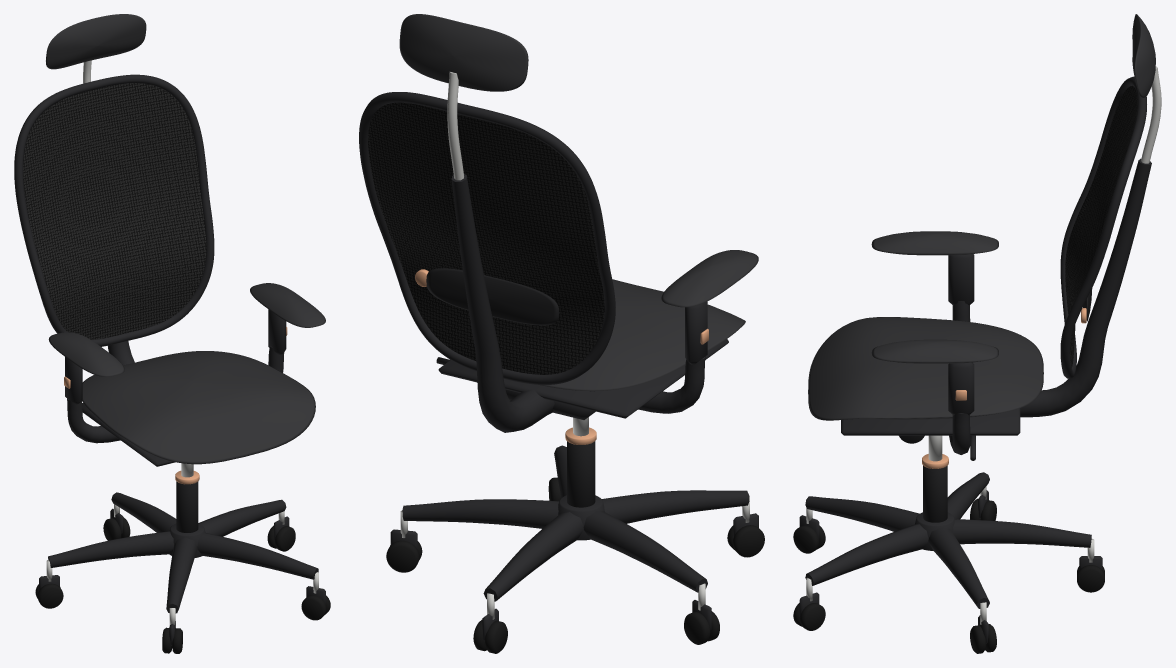
Rendered from concept-chair.glb.
3 renders of one model, left to right at view 1: azimuth 30°, elevation 25°; view 2: azimuth 150°, elevation 25°; view 3: azimuth 270°, elevation 25°, orthographic. The views are drawn at different scales.
Visible parts, largest first — view 1: backpanel, seat, frame, headrest, blade.001, blade.003, armpad, armpad.001, blade.004, blade.002, blade, sleeve (+6 smaller); view 2: backpanel, seat, frame, headrest, spine, lumbar, seatpan, blade.004, blade.001, blade.002, armpad, blade (+9 smaller); view 3: seat, spine, backpanel, frame, seatpan, blade, blade.003, armpad, armpad.001, blade.002, blade.004, headrest (+9 smaller).
Boxes of the visible parts, left/top/right/bottom form: backpanel: left=23, top=83, right=206, bottom=339; seat: left=82, top=351, right=315, bottom=464; frame: left=14, top=74, right=214, bottom=346; headrest: left=46, top=14, right=146, bottom=69; blade.001: left=48, top=531, right=173, bottom=567; blade.003: left=197, top=533, right=318, bottom=579; armpad: left=48, top=332, right=124, bottom=376; armpad.001: left=250, top=283, right=325, bottom=327; blade.004: left=198, top=499, right=286, bottom=536; blade.002: left=166, top=537, right=197, bottom=613; blade: left=111, top=492, right=176, bottom=532; sleeve: left=176, top=481, right=198, bottom=532; backpanel: left=368, top=102, right=604, bottom=374; seat: left=540, top=279, right=745, bottom=391; frame: left=359, top=92, right=615, bottom=384; headrest: left=399, top=14, right=528, bottom=91; spine: left=451, top=174, right=554, bottom=432; lumbar: left=426, top=268, right=559, bottom=325; seatpan: left=438, top=339, right=728, bottom=418; blade.004: left=402, top=499, right=558, bottom=528; blade.001: left=583, top=511, right=707, bottom=592; blade.002: left=602, top=490, right=749, bottom=523; armpad: left=661, top=250, right=758, bottom=307; blade: left=483, top=512, right=583, bottom=601; seat: left=808, top=317, right=1043, bottom=420; spine: left=1020, top=158, right=1151, bottom=417; backpanel: left=1065, top=85, right=1137, bottom=367; frame: left=1060, top=76, right=1146, bottom=378; seatpan: left=841, top=408, right=1020, bottom=435; blade: left=953, top=519, right=1091, bottom=547; blade.003: left=805, top=524, right=928, bottom=585; armpad: left=871, top=231, right=998, bottom=255; armpad.001: left=871, top=339, right=998, bottom=363; blade.002: left=805, top=496, right=919, bottom=531; blade.004: left=928, top=527, right=989, bottom=608; headrest: left=1132, top=14, right=1155, bottom=97.
Bounding box in the file's own units: 0.6953 × 1.31 × 0.781.
Materials: 7 (1 with a texture image).
